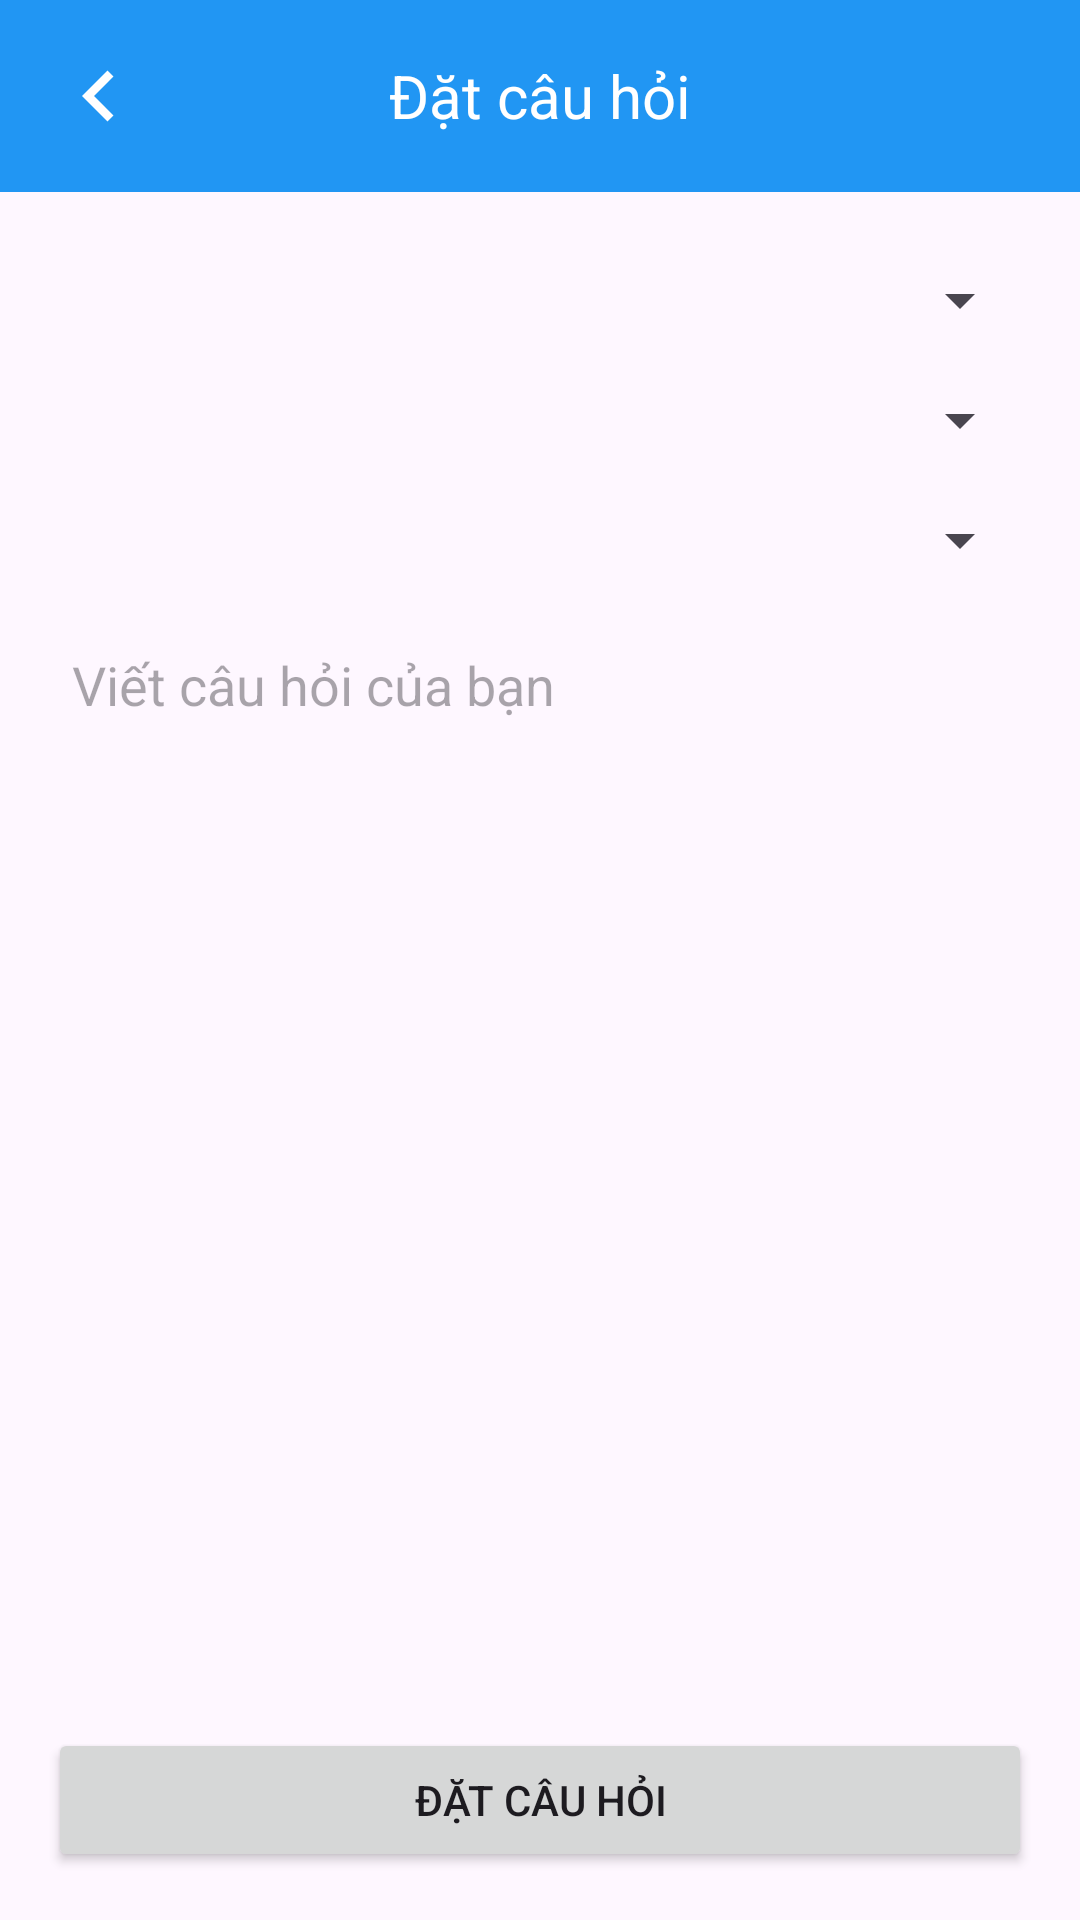

Named icons in this screenshot (1080x1920) and their centers, (x,y):
Quay lại: (98,96)
